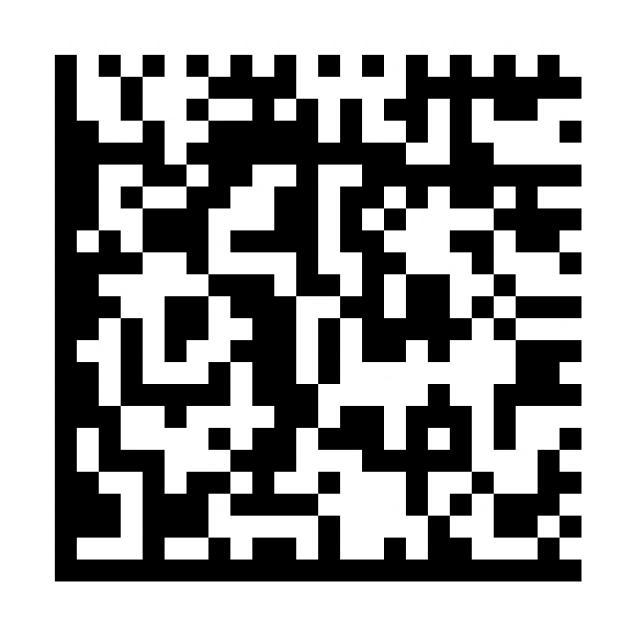Data-Matrix: (40, 40, 596, 596)
